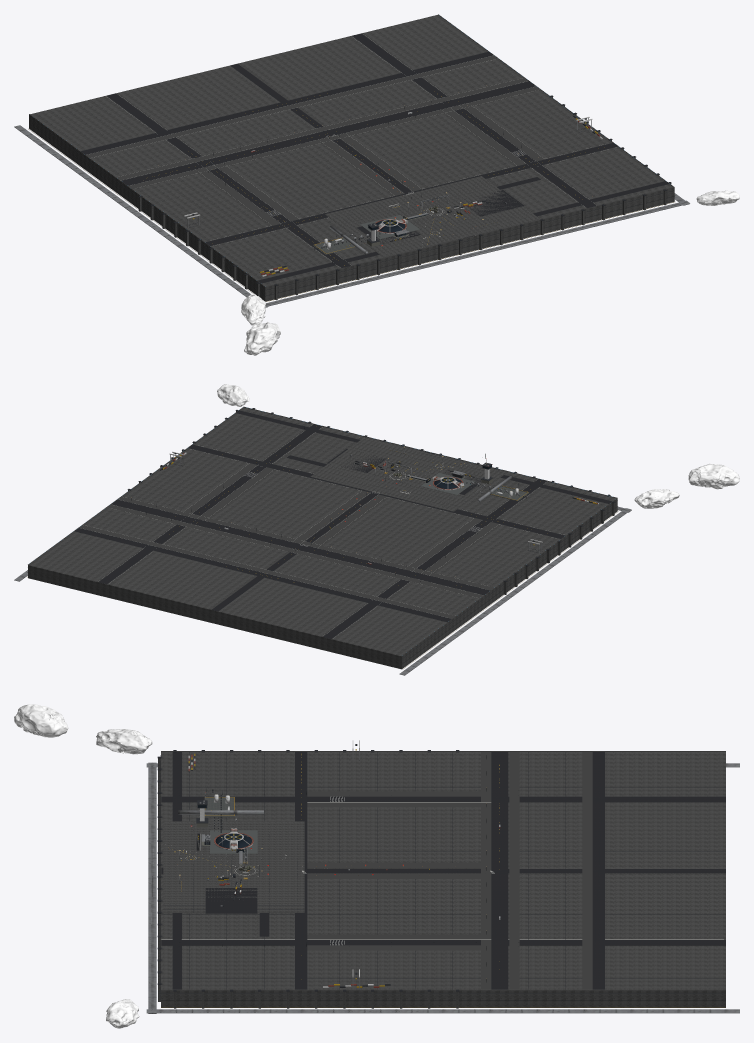
File: anvil-landing.glb
3 views of the same model, one above another, from view 1: azimuth 30°, elevation 25°; view 2: azimuth 150°, elevation 25°; view 3: azimuth 270°, elevation 25° (orthographic). The views are drawn at different scales.
Visible parts, largest first — view 1: Ground, StaticPort, Rock_B.001, Rock_D.001; view 2: Ground, StaticPort, Rock_B.001, Rock_D.001, Rock_C.001; view 3: Ground, StaticPort, Rock_B.001, Rock_D.001, Rock_C.001.
Boxes of the visible parts, box(x1,y1,x2,y2) form: Ground: box(14, 14, 689, 307); StaticPort: box(183, 112, 602, 276); Rock_B.001: box(244, 322, 280, 355); Rock_D.001: box(241, 294, 265, 325); Ground: box(14, 406, 631, 675); StaticPort: box(160, 446, 598, 564); Rock_B.001: box(688, 463, 739, 489); Rock_D.001: box(634, 489, 679, 508); Rock_C.001: box(217, 384, 249, 406); Ground: box(146, 750, 739, 1013); StaticPort: box(169, 740, 500, 989); Rock_B.001: box(14, 704, 68, 737); Rock_D.001: box(96, 729, 152, 754); Rock_C.001: box(106, 999, 139, 1028).
Size of the model in its own units: 1561 by 131 by 1542.
Materials: 28 (11 with a texture image).
